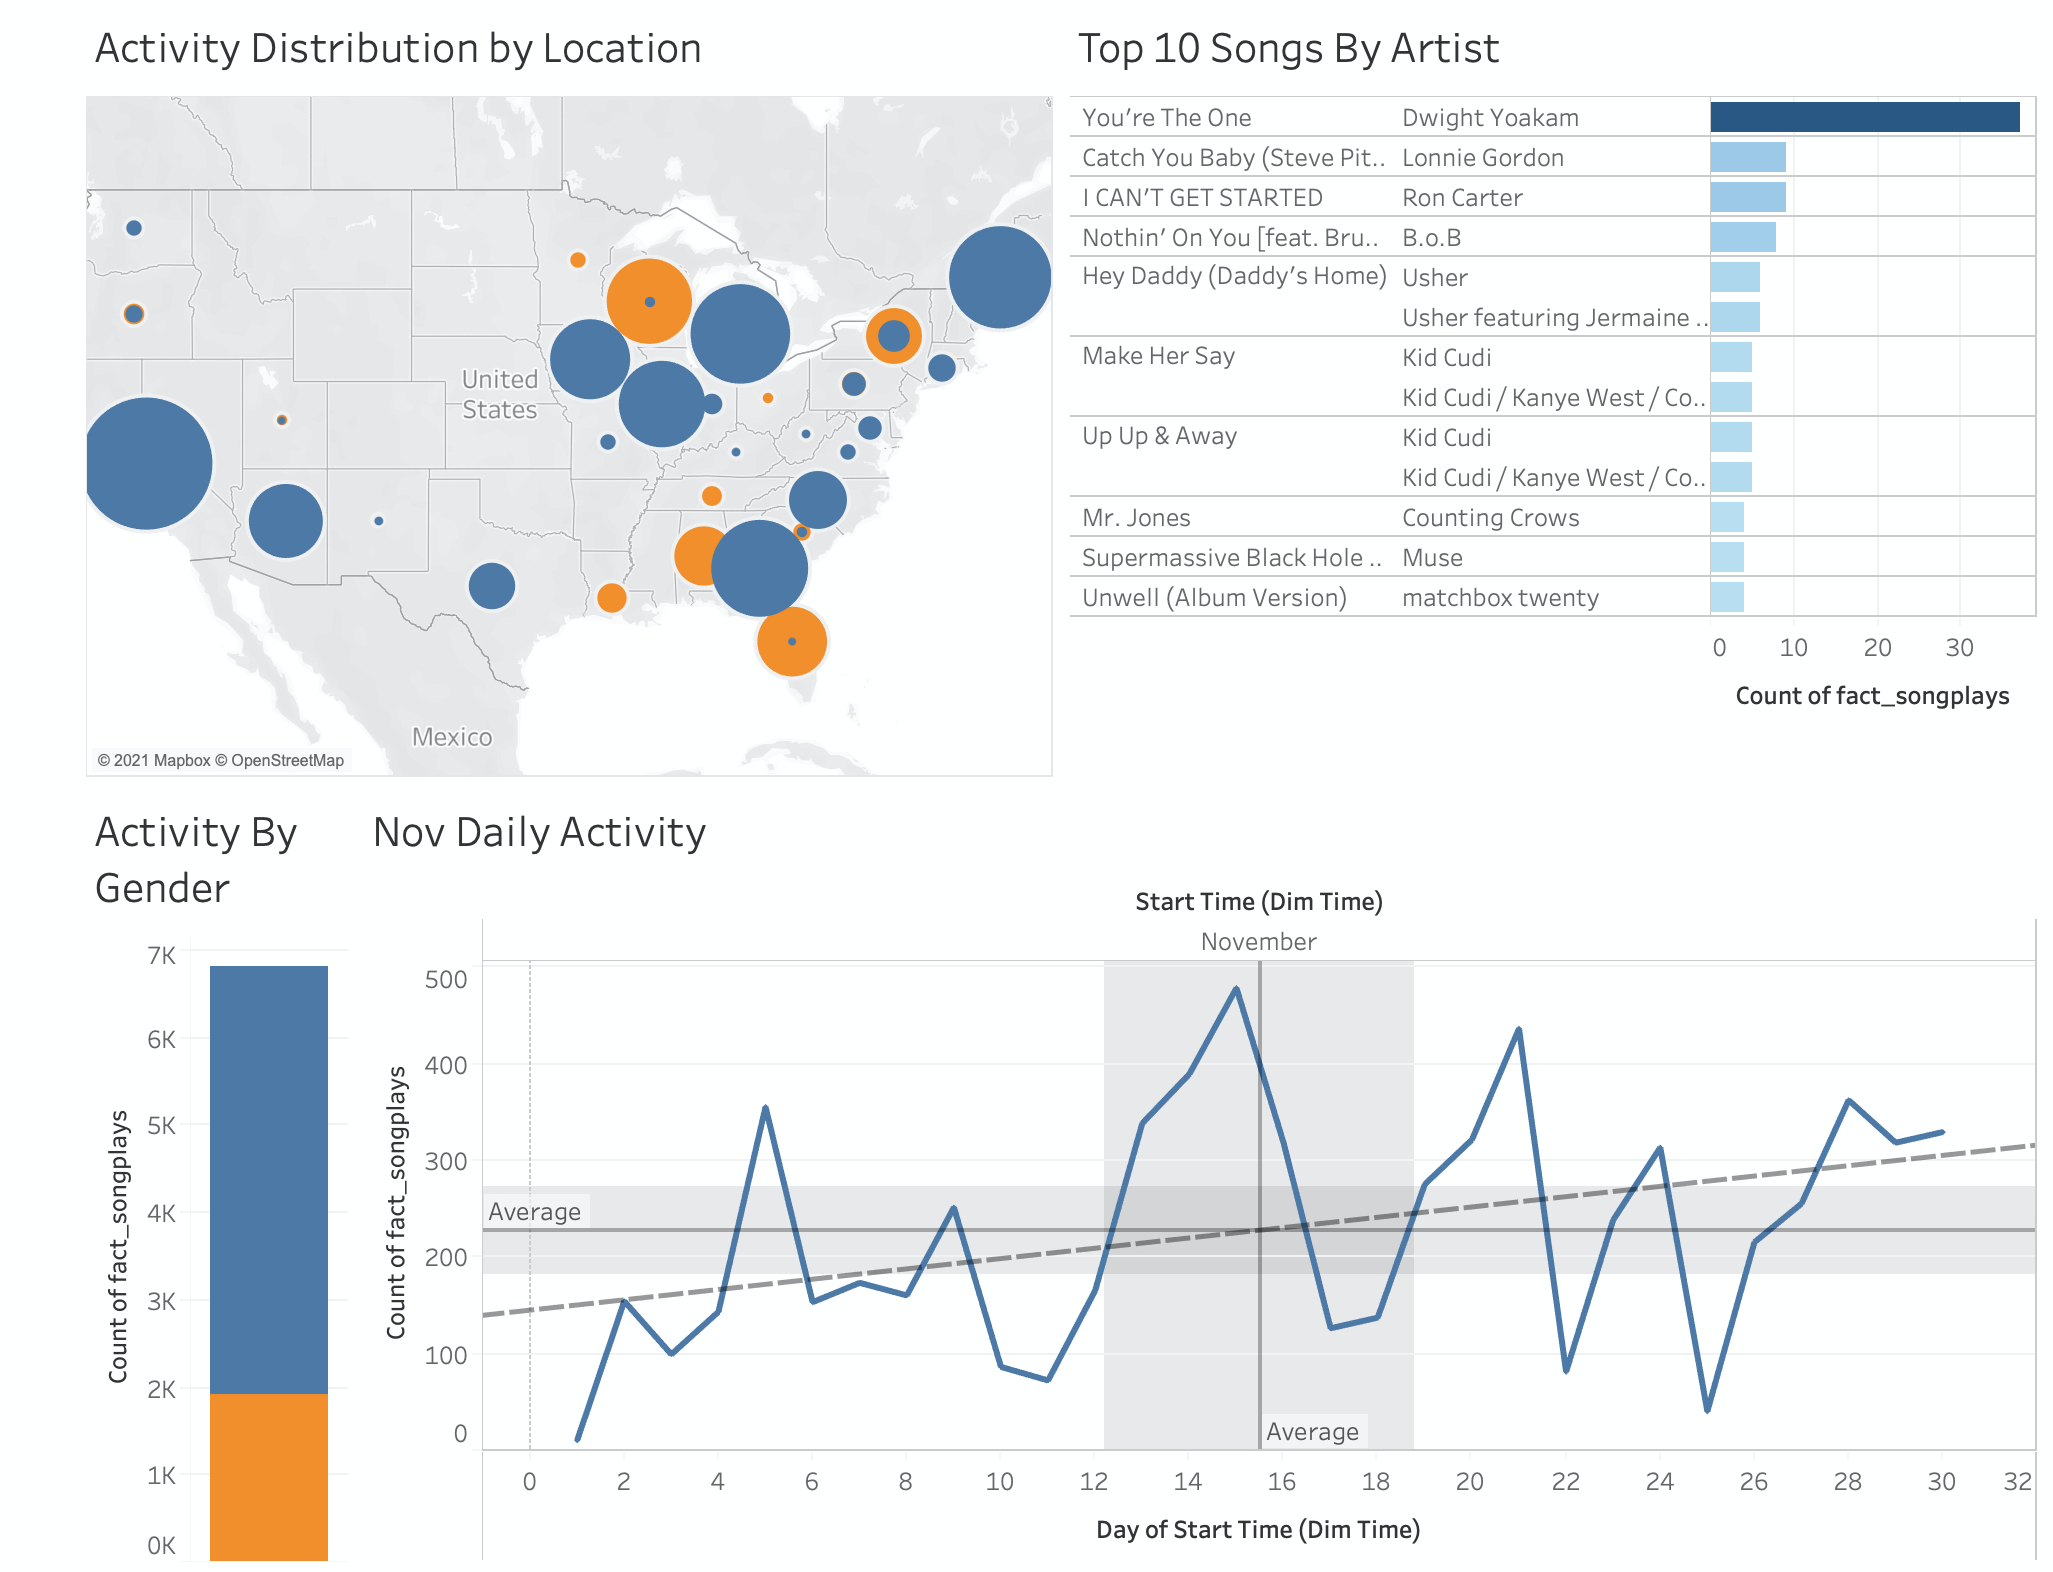

The dashboard page shown, as its layout file describes it:
{"tool":"tableau","page":{"name":"Dashboard 1","canvas":[1000,800],"ordinal":0},"visuals":[{"type":"worksheet","box":[0,0,1000,800]},{"type":"worksheet","title":"Activity Distribution by Location","mark":"Automatic","box":[8,8,492,392]},{"type":"worksheet","title":"Top 10 Songs By Artist","mark":"Automatic","rows":["Top Songs by Acitivty","title","name"],"cols":["fact_songplays (sparkify.fact_songplays)_51DA28528AE8469D8A3"],"box":[500,8,492,392]},{"type":"worksheet","param":"horz","box":[8,400,984,392]},{"type":"worksheet","box":[8,400,139,392]},{"type":"worksheet","title":"Activity By Gender","mark":"Automatic","rows":["fact_songplays (sparkify.fact_songplays)_51DA28528AE8469D8A3"],"box":[8,400,139,392]},{"type":"worksheet","title":"Nov Daily Activity","mark":"Automatic","rows":["fact_songplays (sparkify.fact_songplays)_51DA28528AE8469D8A3"],"cols":["start_time (dim_time)","start_time (dim_time)"],"box":[147,400,845,392]}]}

Visuals, with their boxes on the page's 1000x800 design canvas (x1, y1, x2, y2). These are canvas units, not pixel positions in the 2053x1572 screenshot, which may show the page scaled, cropped or inside an application window:
worksheet: bbox=(0, 0, 1000, 800)
"Activity Distribution by Location" worksheet: bbox=(8, 8, 500, 400)
"Top 10 Songs By Artist" worksheet: bbox=(500, 8, 992, 400)
worksheet: bbox=(8, 400, 992, 792)
worksheet: bbox=(8, 400, 147, 792)
"Activity By Gender" worksheet: bbox=(8, 400, 147, 792)
"Nov Daily Activity" worksheet: bbox=(147, 400, 992, 792)
